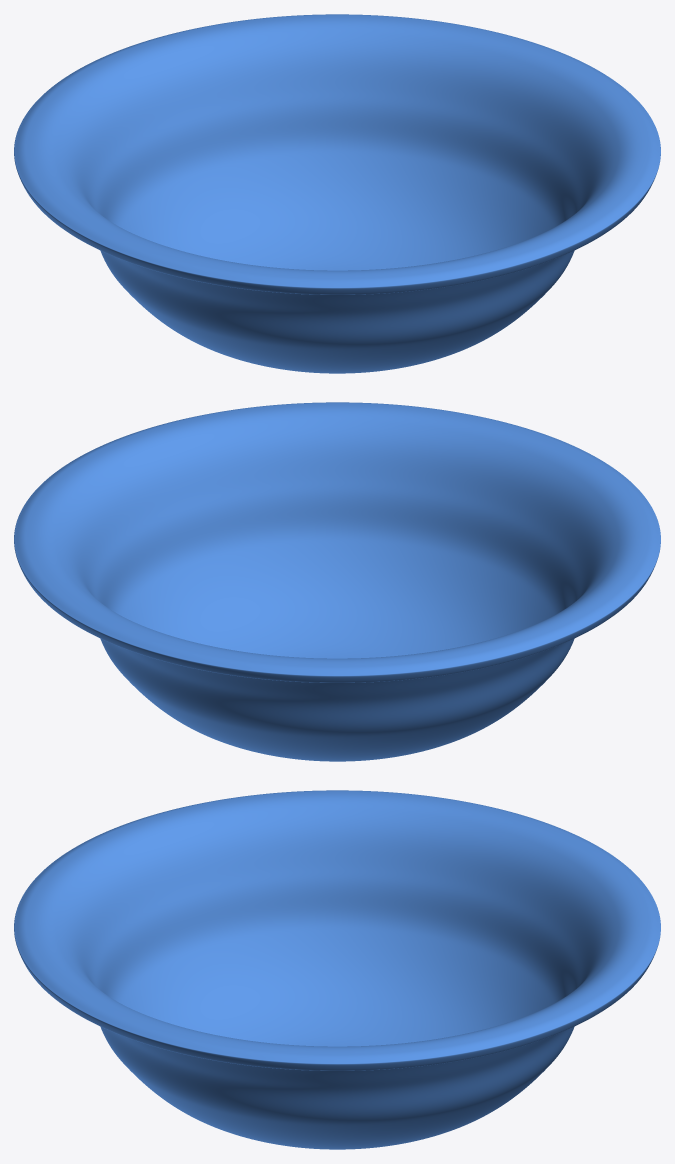
3 views of the same model, one above another, from view 1: azimuth 30°, elevation 25°; view 2: azimuth 150°, elevation 25°; view 3: azimuth 270°, elevation 25° (orthographic).
Visible parts, largest first — view 1: Plate; view 2: Plate; view 3: Plate.
Part boxes in pixels (x1,y1,x2,y2): Plate: [14, 14, 660, 373]; Plate: [14, 402, 660, 761]; Plate: [14, 790, 660, 1149].
Bounding box in the file's own units: 0.3009 × 0.0904 × 0.3009.
